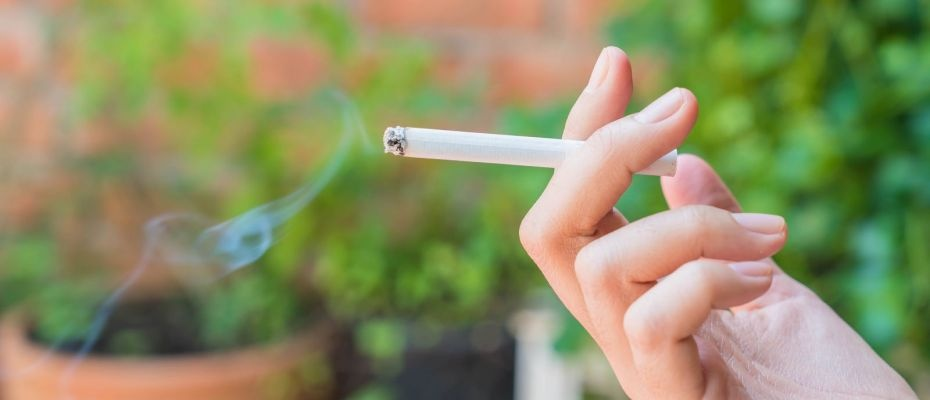sigaretta: (376, 123, 709, 197)
